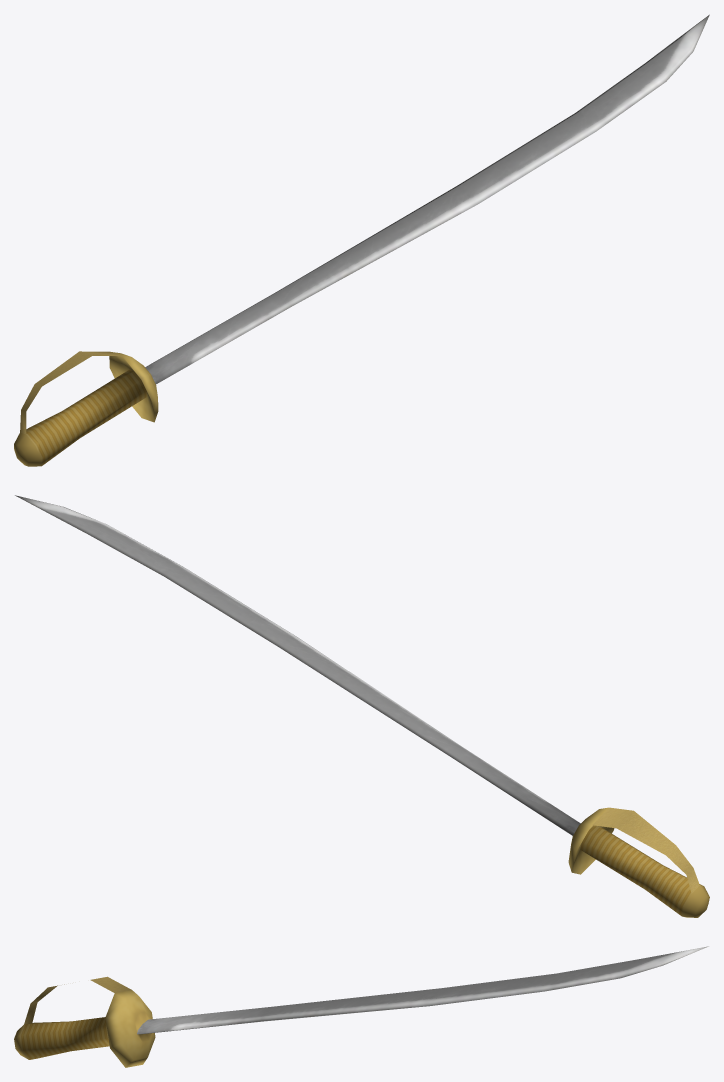
The model's file is Cutlass.fbx.
3 renders of one model, top to bottom at view 1: azimuth 30°, elevation 25°; view 2: azimuth 150°, elevation 25°; view 3: azimuth 330°, elevation 25°, orthographic. The views are drawn at different scales.
Parts seen in each view (by area): view 1: Cylinder; view 2: Cylinder; view 3: Cylinder.
Part boxes in pixels (x1=…): Cylinder: x1=14, y1=14, x2=709, y2=466; Cylinder: x1=15, y1=495, x2=709, y2=917; Cylinder: x1=14, y1=946, x2=708, y2=1067.
Bounding box in the file's own units: 15.45 × 5.79 × 1.59.
